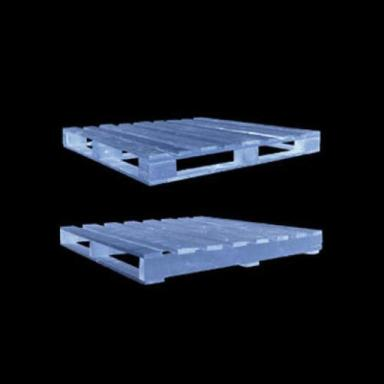pallet: (60, 216, 323, 285), (63, 117, 320, 187), (175, 151, 234, 179)
